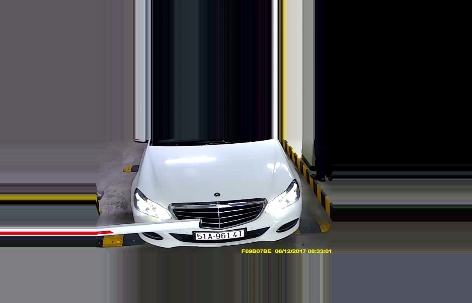plate: (194, 229, 246, 241)
